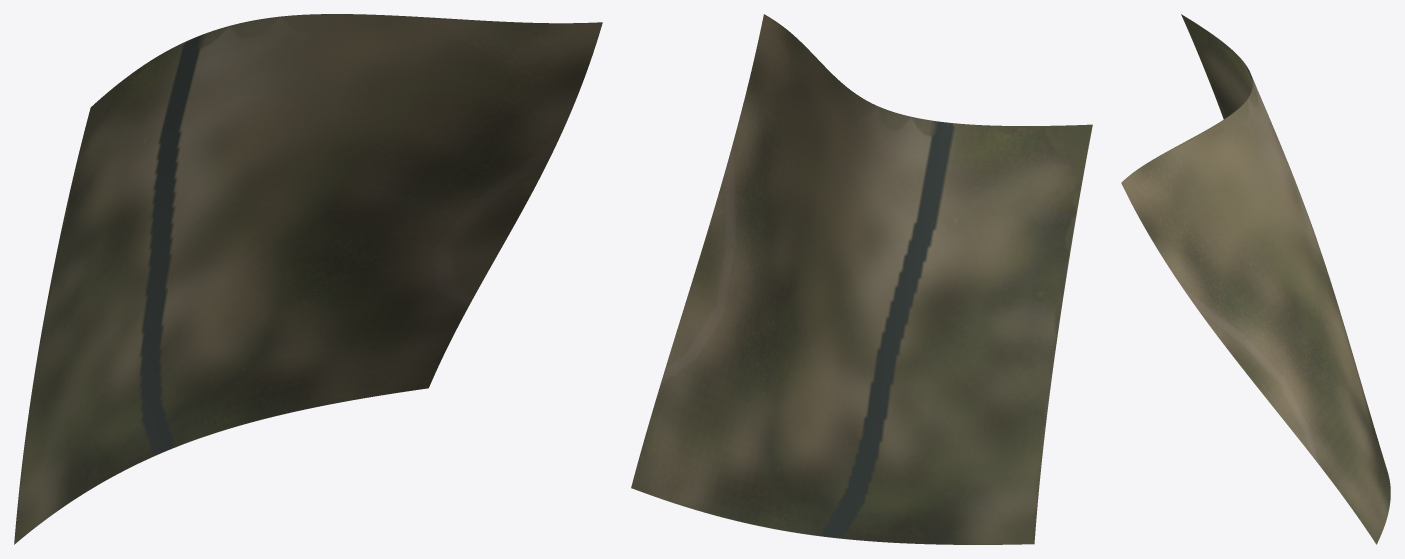
File: ground_core_00_07.obj
3 views of the same model, side by side, from view 1: azimuth 30°, elevation 25°; view 2: azimuth 150°, elevation 25°; view 3: azimuth 270°, elevation 25° (orthographic). The views are drawn at different scales.
Visible parts, largest first — view 1: ground_core_00_07; view 2: ground_core_00_07; view 3: ground_core_00_07.
Part boxes in pixels (x1,y1,x2,y2): ground_core_00_07: [14, 14, 602, 544]; ground_core_00_07: [631, 14, 1092, 544]; ground_core_00_07: [1121, 14, 1390, 544].
Size of the model in its own units: 50 by 50 by 33.74.
Materials: 1 (1 with a texture image).
